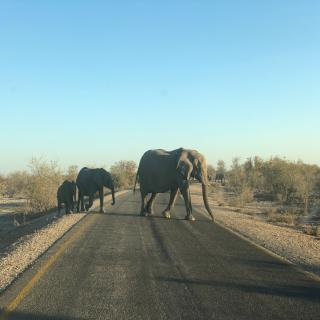Elephant: (132, 146, 216, 222), (76, 166, 117, 215), (56, 180, 80, 218)
